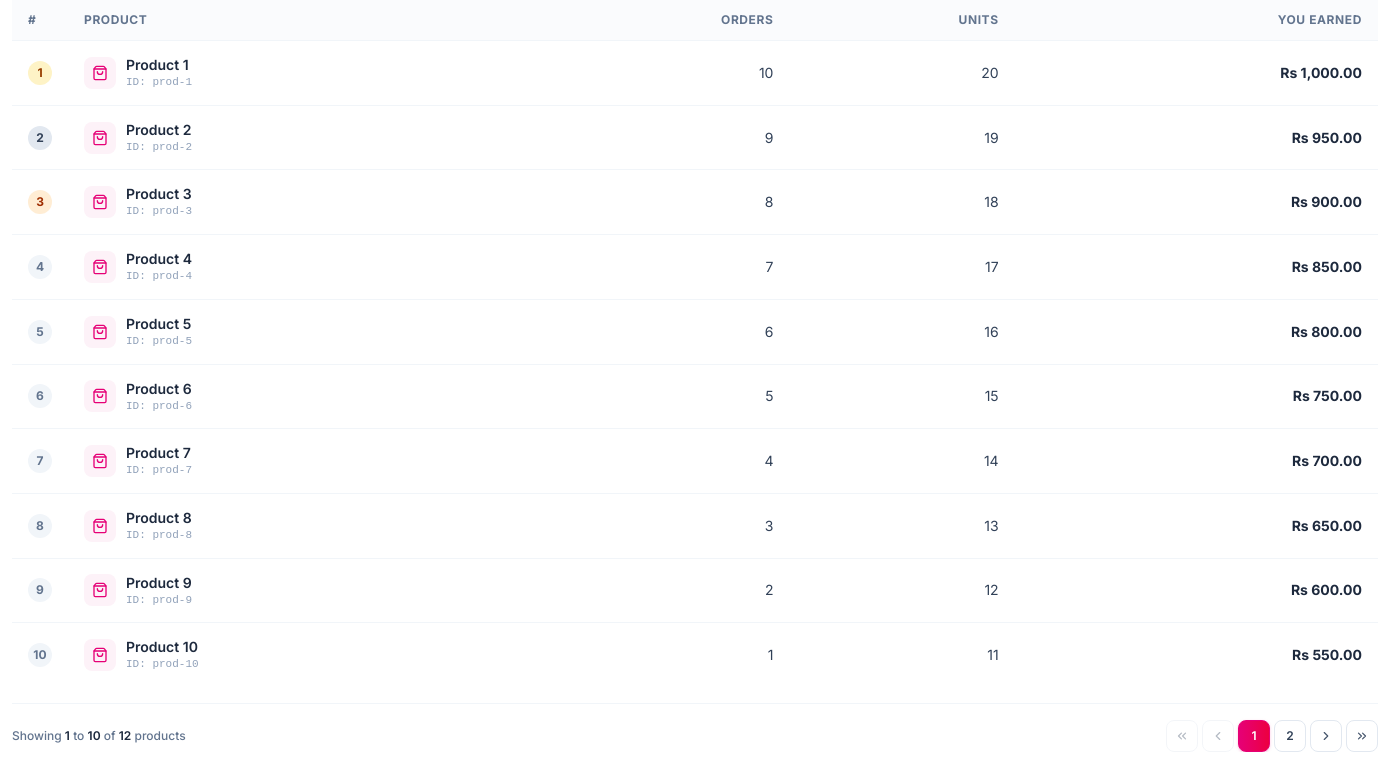
Test: TopProductsTable Pagination › limits display to 10 products per page and computes global rank correctly
This screenshot has width=1390, height=768.
Expected: the text "Product 1" is shown, [126, 55, 192, 75]
Expected: the text "Product 10" is shown, [126, 637, 199, 657]
// Page 2 button
Step 1. Click the button named "Page 2" → (1290, 736), box [1274, 720, 1306, 752]
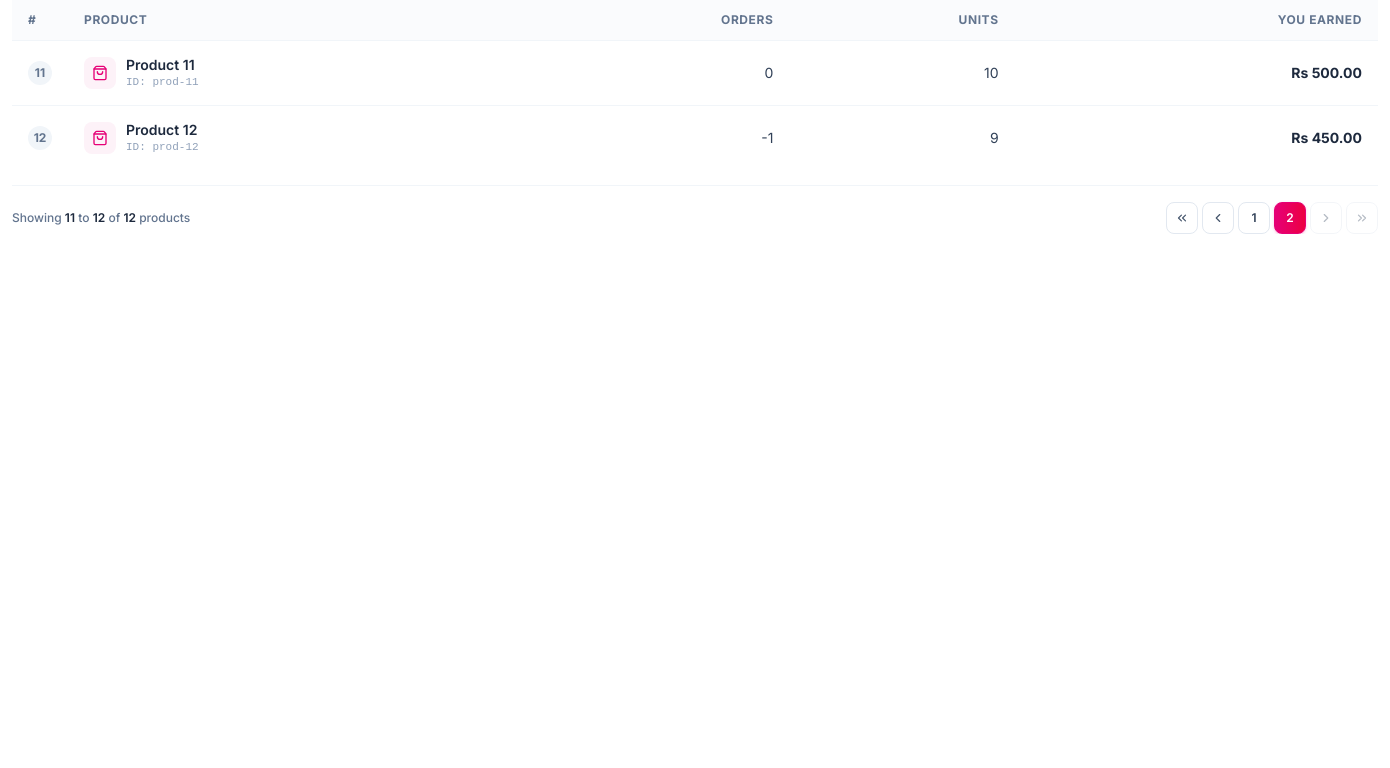
Expected: the text "Product 11" is shown, [126, 55, 199, 75]
Expected: the text "Product 12" is shown, [126, 120, 199, 140]
